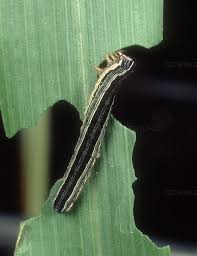Armyworm: (50, 46, 137, 219)
